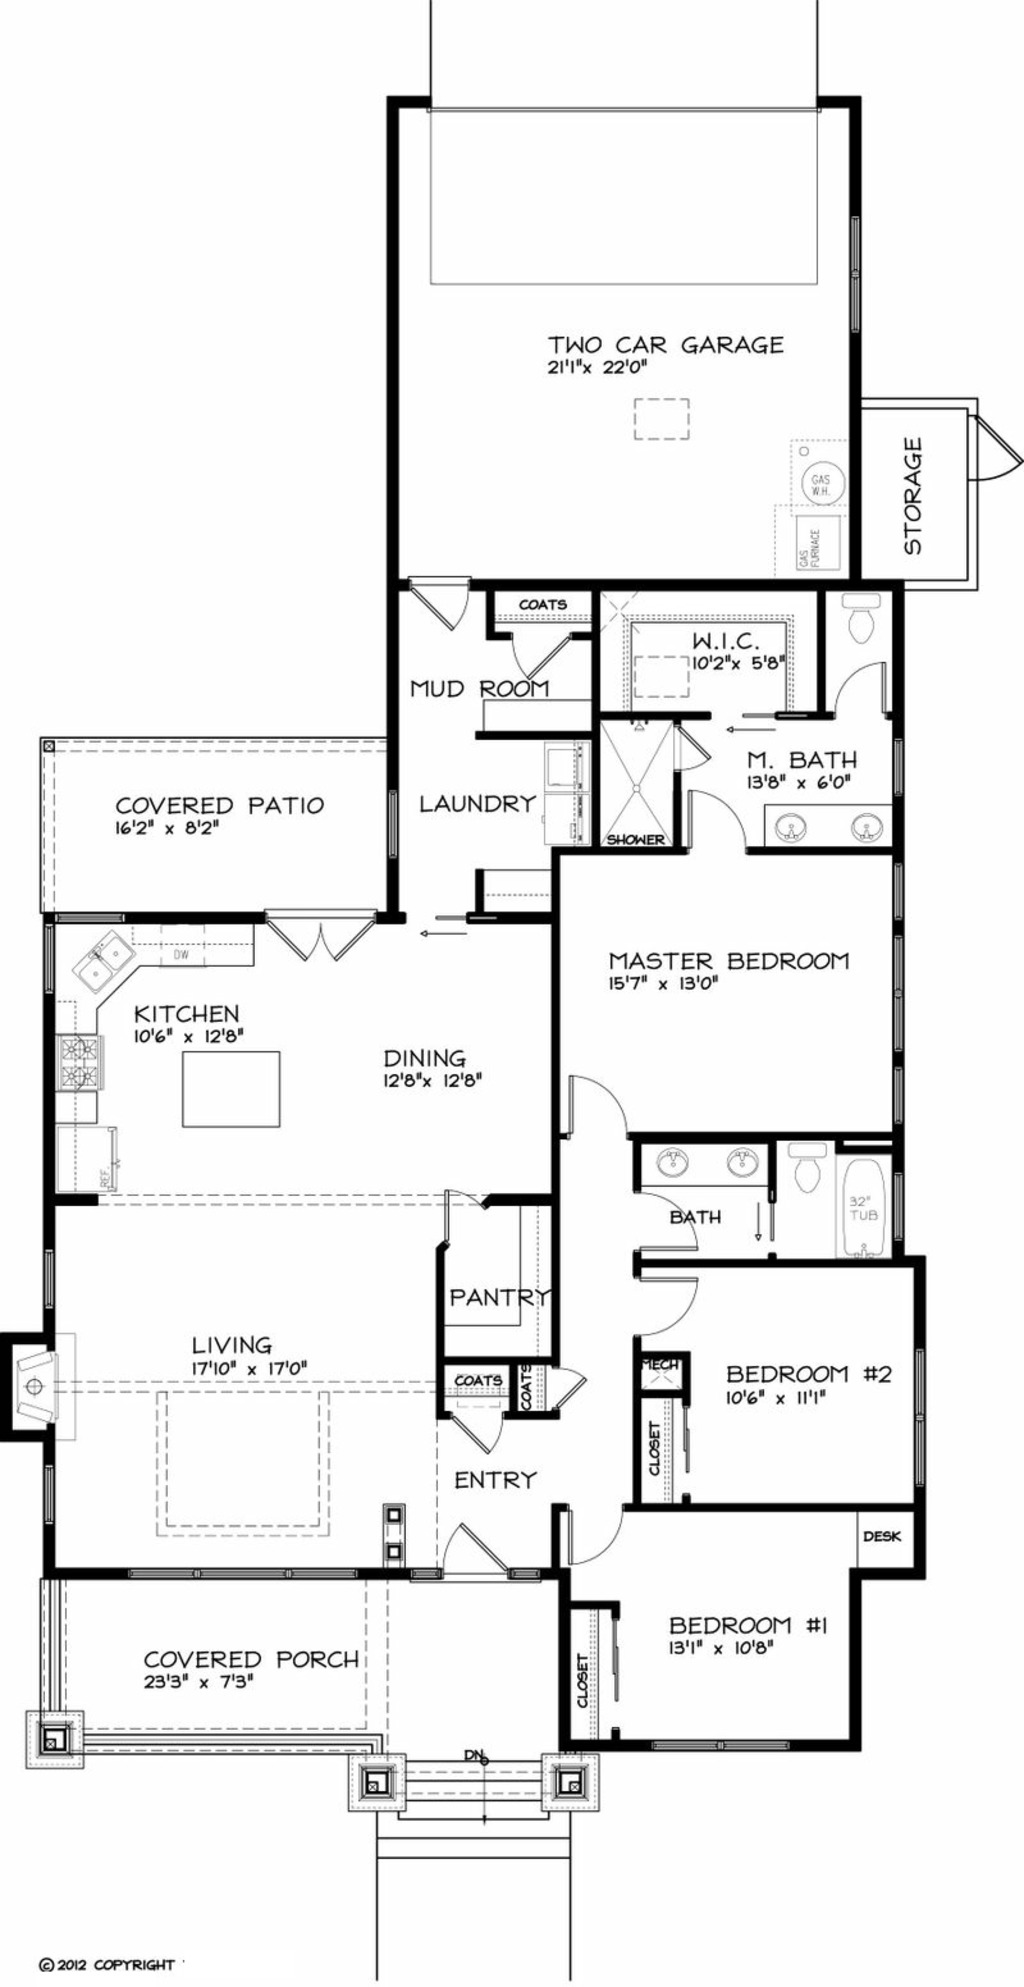door: (247, 903, 372, 984), (543, 1067, 644, 1145), (626, 1179, 713, 1257), (632, 1273, 713, 1351), (419, 1172, 494, 1248), (963, 407, 1019, 507), (494, 627, 583, 689), (675, 779, 747, 856), (435, 1524, 513, 1591), (410, 567, 478, 642), (807, 661, 888, 723), (444, 1396, 536, 1450)
large_sink: (816, 595, 897, 681), (785, 1145, 835, 1219)
small_sink: (765, 795, 922, 864), (635, 1142, 775, 1189)
stairs: (385, 1751, 569, 1860)
tub: (844, 1154, 897, 1264)
twin_sink: (63, 926, 188, 1017)
